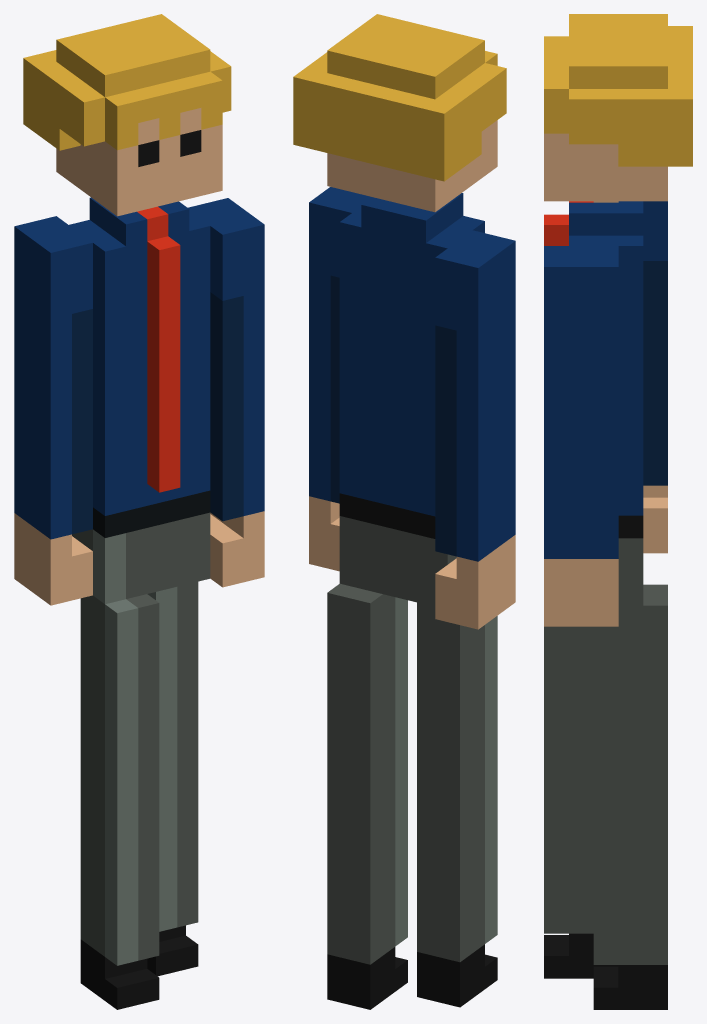
Rendered from Tony_Ethn1_Walking2.obj.
3 views of the same model, side by side, from view 1: azimuth 30°, elevation 25°; view 2: azimuth 150°, elevation 25°; view 3: azimuth 270°, elevation 25° (orthographic). The views are drawn at different scales.
Parts seen in each view (by area): view 1: Tony_Ethn1_Walking2; view 2: Tony_Ethn1_Walking2; view 3: Tony_Ethn1_Walking2.
Boxes of the visible parts, <box> form: Tony_Ethn1_Walking2: <box>14,14,264,1009</box>; Tony_Ethn1_Walking2: <box>293,14,515,1009</box>; Tony_Ethn1_Walking2: <box>544,14,692,1009</box>.
Size of the model in its own units: 9 by 42 by 6.
Materials: 1 (1 with a texture image).
